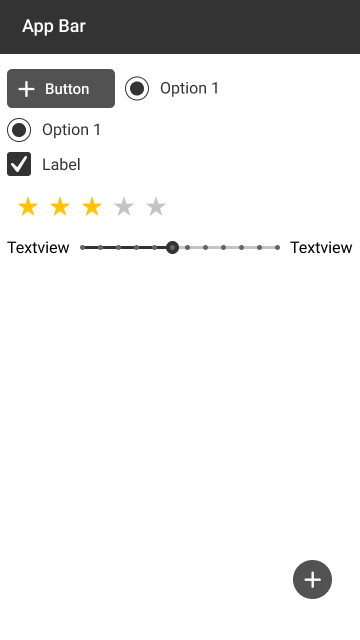buttonImage: (5, 67, 117, 110)
checkBox: (5, 150, 85, 178)
floatingButton: (292, 559, 334, 600)
radioButton: (124, 75, 221, 104), (4, 117, 104, 144)
ratingBar: (19, 195, 170, 220)
slider: (77, 240, 284, 254)
textView: (290, 237, 356, 258), (7, 238, 72, 256)
toolbar: (1, 1, 360, 54)
